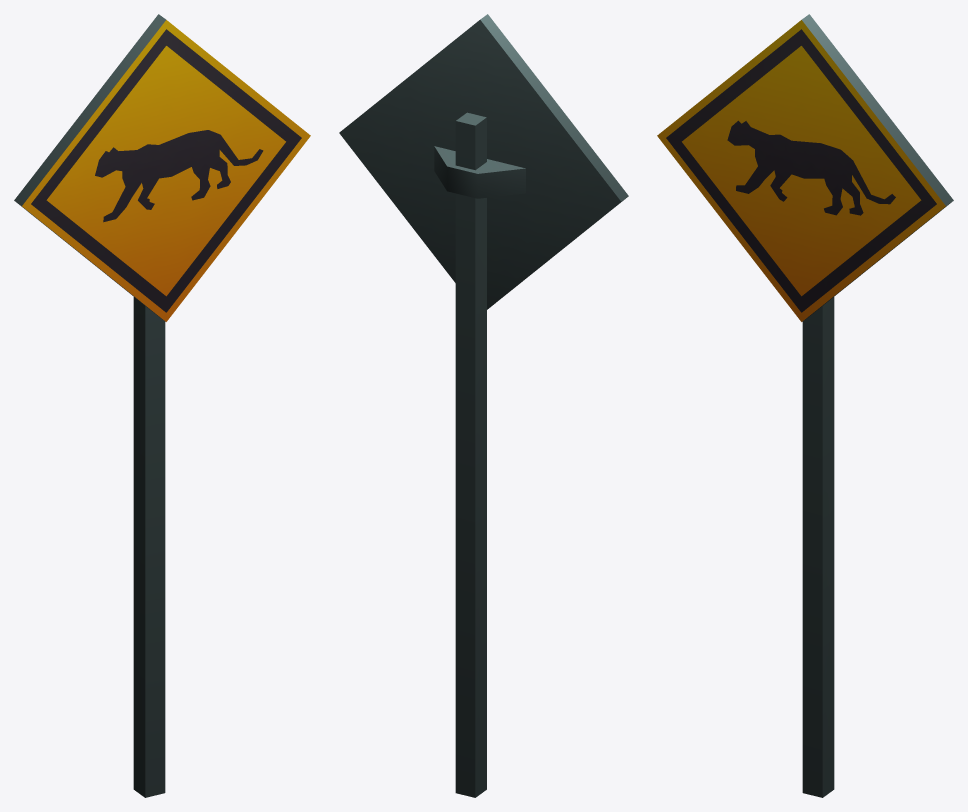
File: Streetsign_4C.fbx
3 views of the same model, side by side, from view 1: azimuth 30°, elevation 25°; view 2: azimuth 150°, elevation 25°; view 3: azimuth 330°, elevation 25° (orthographic). The views are drawn at different scales.
Visible parts, largest first — view 1: Streetsign_4C; view 2: Streetsign_4C; view 3: Streetsign_4C.
Boxes of the visible parts, x1,y1,x2,y2 form: Streetsign_4C: (14,14,310,797); Streetsign_4C: (339,14,628,797); Streetsign_4C: (657,14,953,797).
Size of the model in its own units: 127 by 330 by 20.83.
